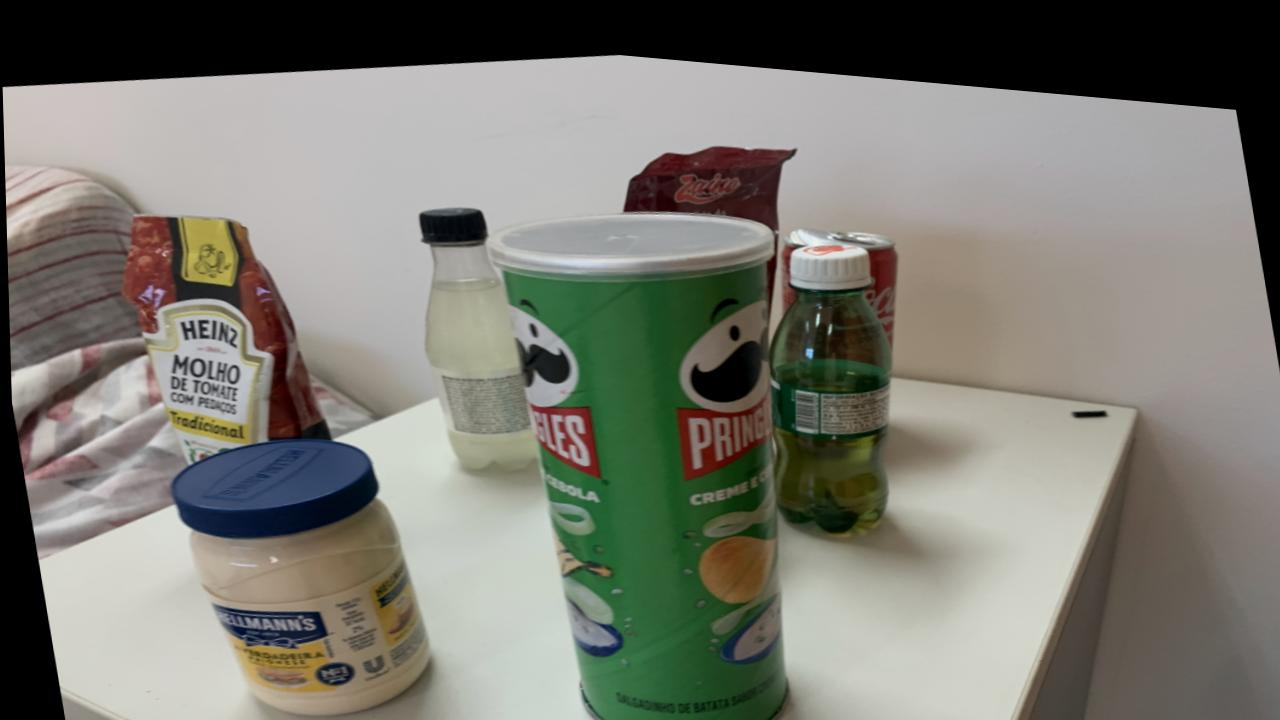Coke-Drinks: (779, 213, 897, 327)
Guarana-Drinks: (767, 228, 890, 520)
Mayonnaise-Pantry_Items: (167, 433, 426, 708)
Pringles-Snacks: (485, 199, 785, 720)
Soda-Drinks: (418, 199, 533, 461)
Tomato_Sauce-Pantry_Items: (120, 212, 328, 460), (622, 132, 795, 218)
